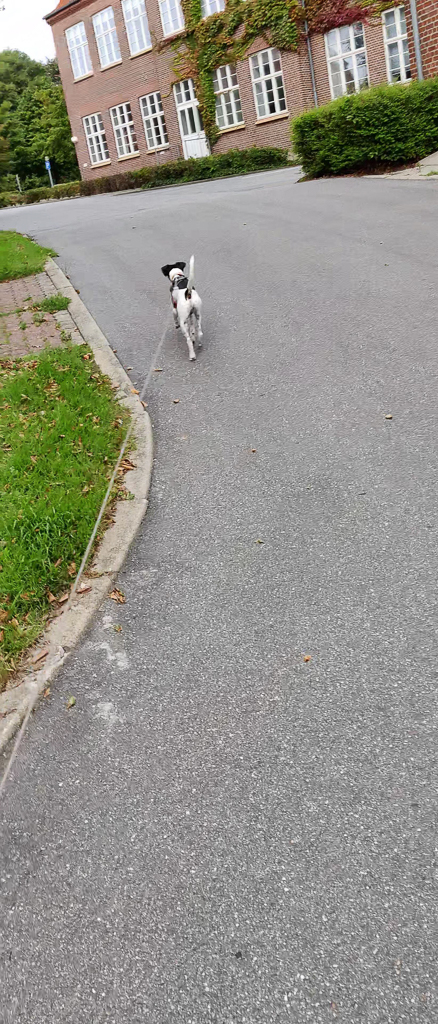Dog: (150, 251, 218, 366)
